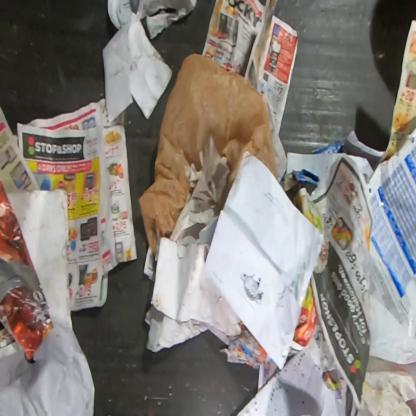soft_plastic: (138, 53, 278, 255)
